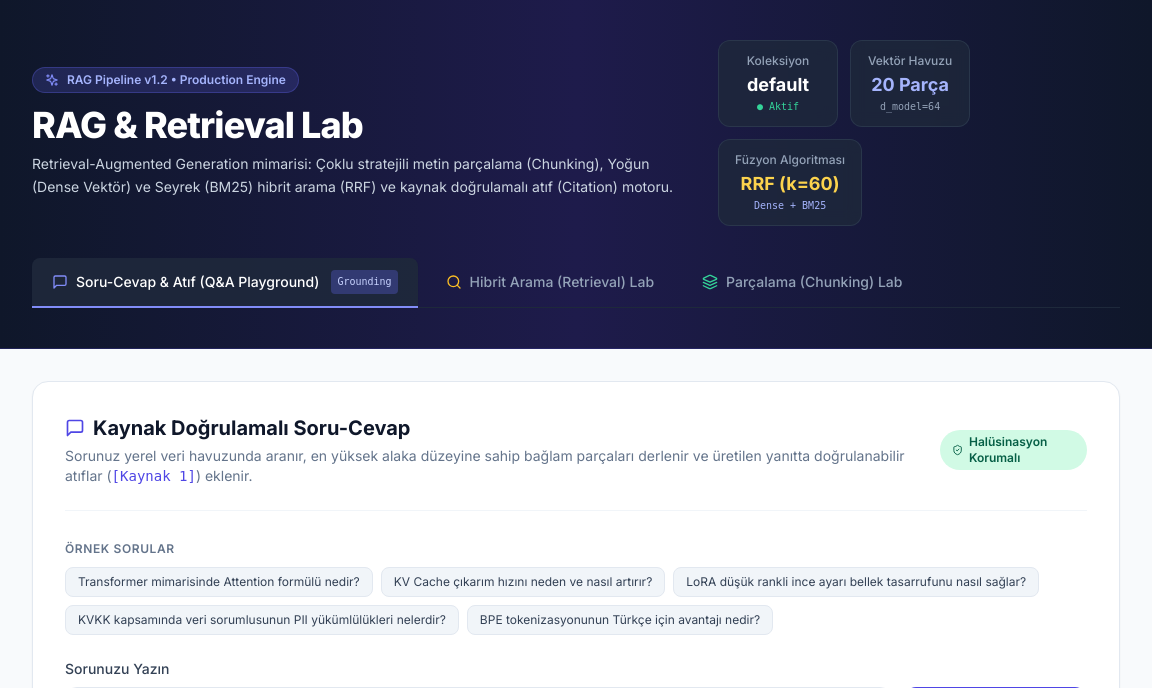
Test: RAG Lab Page › switches to Retrieval Lab tab and displays mode buttons
Click the button "Hibrit Arama (Retrieval) Lab".
click(550, 283)  # box [426,260,674,306]
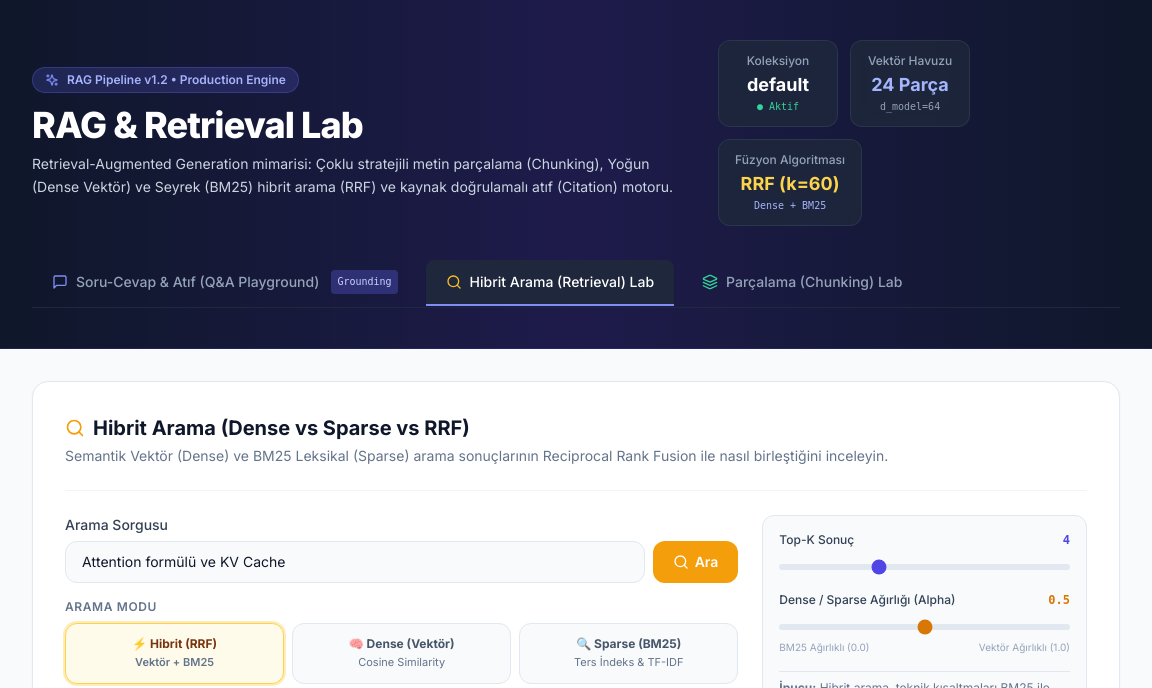
Now the heading "Hibrit Arama (Dense vs Sparse vs RRF)" is shown, box [65,416,470,440]
Now the text "⚡ Hibrit (RRF)" is shown, box [132,636,217,651]
Now the text "🧠 Dense (Vektör)" is shown, box [349,636,454,651]
